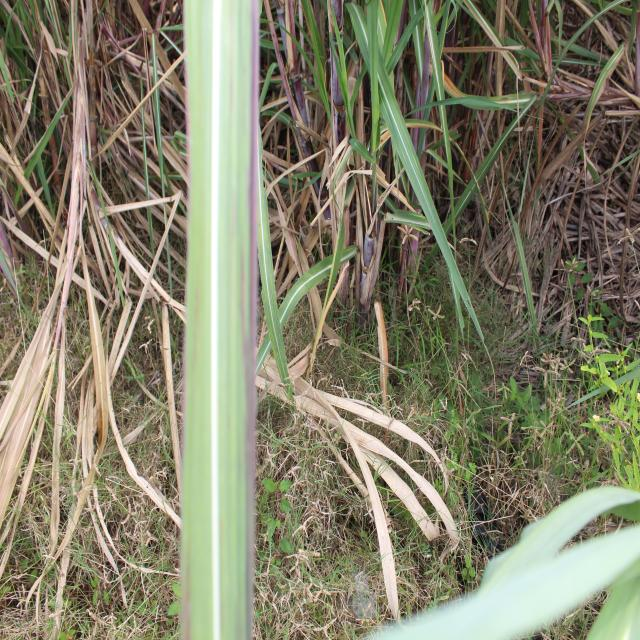Sugarcane: (180, 3, 259, 640), (364, 485, 638, 640), (373, 56, 478, 358), (438, 103, 538, 249), (514, 102, 594, 275), (347, 4, 411, 207), (258, 114, 302, 398), (423, 4, 456, 248), (15, 79, 76, 210), (497, 157, 538, 350), (548, 1, 636, 80), (444, 0, 529, 79), (313, 205, 354, 356), (298, 4, 339, 154), (579, 41, 627, 159), (88, 168, 125, 310), (285, 260, 335, 338), (412, 90, 537, 115)
